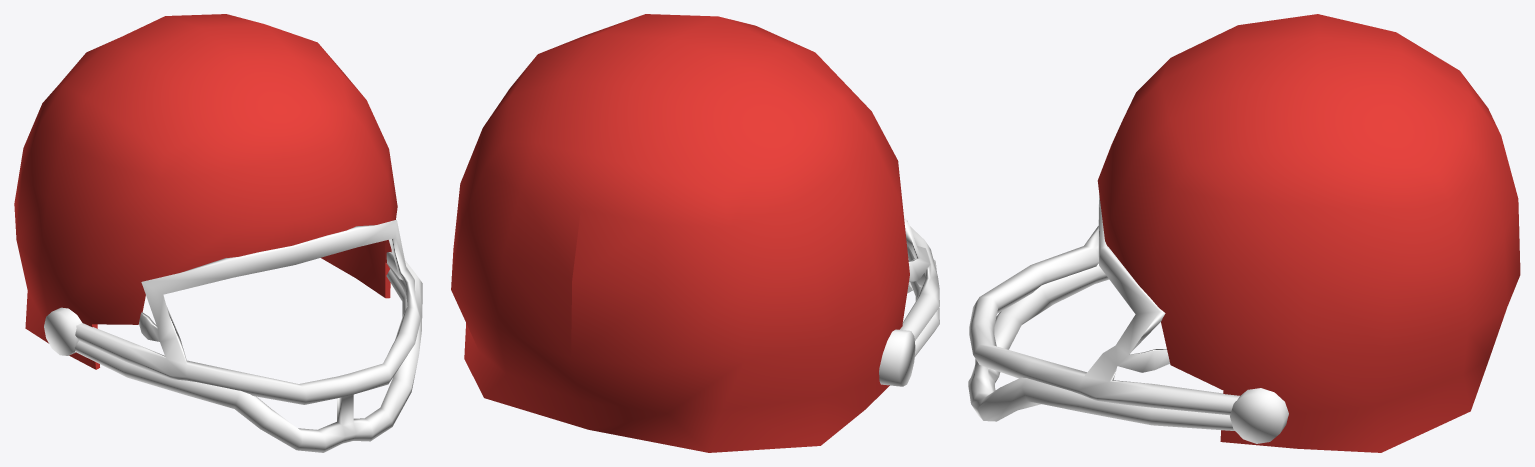
Rendered from Prize_Plastic Football Helmet_Final.fbx.
3 renders of one model, left to right at view 1: azimuth 30°, elevation 25°; view 2: azimuth 150°, elevation 25°; view 3: azimuth 270°, elevation 25°, orthographic. The views are drawn at different scales.
Parts seen in each view (by area): view 1: Plastic_Football_Helmet; view 2: Plastic_Football_Helmet; view 3: Plastic_Football_Helmet.
Boxes of the visible parts, x1,y1,x2,y2 form: Plastic_Football_Helmet: (14, 14, 422, 452); Plastic_Football_Helmet: (451, 14, 939, 452); Plastic_Football_Helmet: (968, 14, 1520, 452).
Size of the model in its own units: 32.89 by 28.52 by 39.11.
